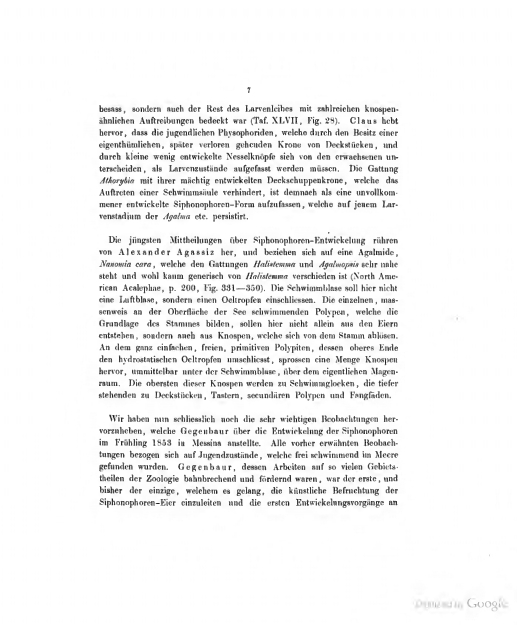MainZone: (86, 94, 415, 517)
NoiseZone: (408, 589, 517, 625)
NumberingZone_page: (239, 80, 263, 99)
